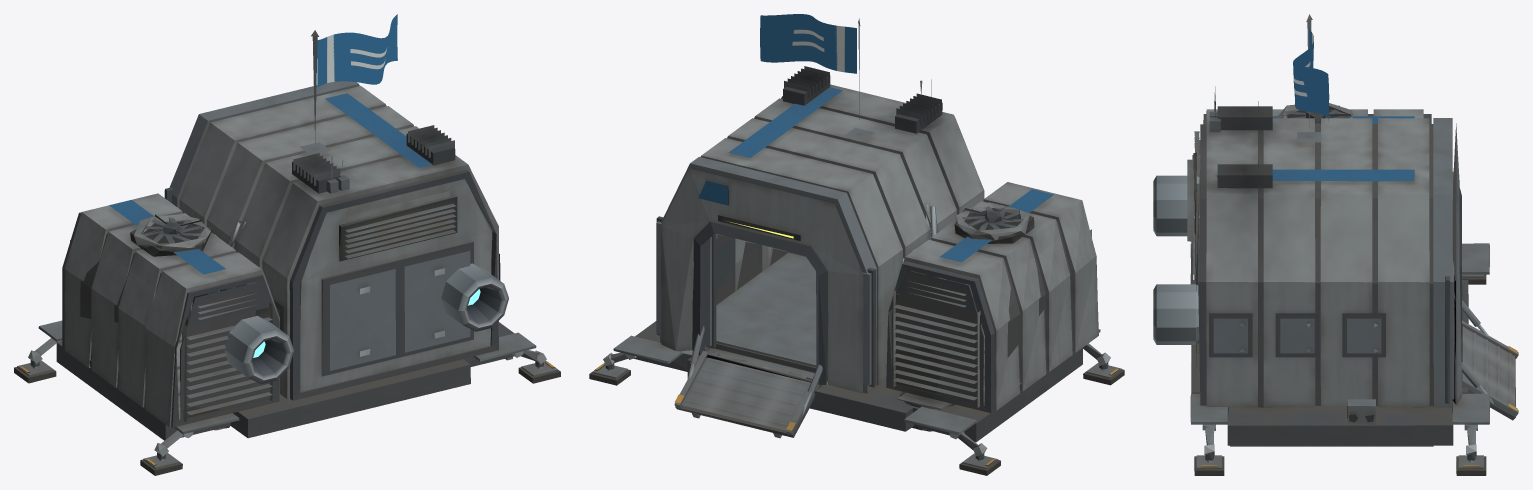
Rendered from barracks_lod1.glb.
The picture shows the model from 3 angles, left to right: view 1: azimuth 30°, elevation 25°; view 2: azimuth 150°, elevation 25°; view 3: azimuth 270°, elevation 25°; orthographic projection. The views are drawn at different scales.
Visible parts, largest first — view 1: HullMesh, BarracksFlag, RearEngineLMesh, RearEngineRMesh, PowerFanMesh, FootRRearMesh, FootLFrontMesh, FootLRearMesh; view 2: HullMesh, RampMesh, BarracksFlag, DoorRMesh, DoorLMesh, PowerFanMesh, FootRFrontMesh, FootLRearMesh, FootLFrontMesh; view 3: HullMesh, RampMesh, RearEngineRMesh, RearEngineLMesh, BarracksFlag, DoorRMesh, FootRFrontMesh, FootRRearMesh.
Boxes of the visible parts, x1,y1,x2,y2 form: HullMesh: [38, 30, 536, 440]; BarracksFlag: [317, 14, 397, 86]; RearEngineLMesh: [224, 316, 293, 384]; RearEngineRMesh: [441, 263, 508, 331]; PowerFanMesh: [142, 217, 202, 243]; FootRRearMesh: [518, 360, 560, 383]; FootLFrontMesh: [14, 360, 56, 383]; FootLRearMesh: [140, 453, 182, 475]; HullMesh: [613, 18, 1100, 442]; RampMesh: [674, 350, 821, 438]; BarracksFlag: [760, 14, 856, 73]; DoorRMesh: [656, 216, 716, 348]; DoorLMesh: [816, 267, 875, 387]; PowerFanMesh: [962, 206, 1023, 230]; FootRFrontMesh: [589, 363, 630, 385]; FootLRearMesh: [1083, 363, 1124, 385]; FootLFrontMesh: [959, 453, 1000, 475]; HullMesh: [1187, 14, 1489, 446]; RampMesh: [1462, 320, 1518, 420]; RearEngineRMesh: [1153, 284, 1199, 344]; RearEngineLMesh: [1153, 175, 1199, 236]; BarracksFlag: [1293, 27, 1329, 121]; DoorRMesh: [1445, 254, 1454, 403]; FootRFrontMesh: [1456, 455, 1486, 475]; FootRRearMesh: [1194, 455, 1224, 475].
Bounding box in the file's own units: 10.21 × 8.52 × 7.68.
Materials: 7 (4 with a texture image).
